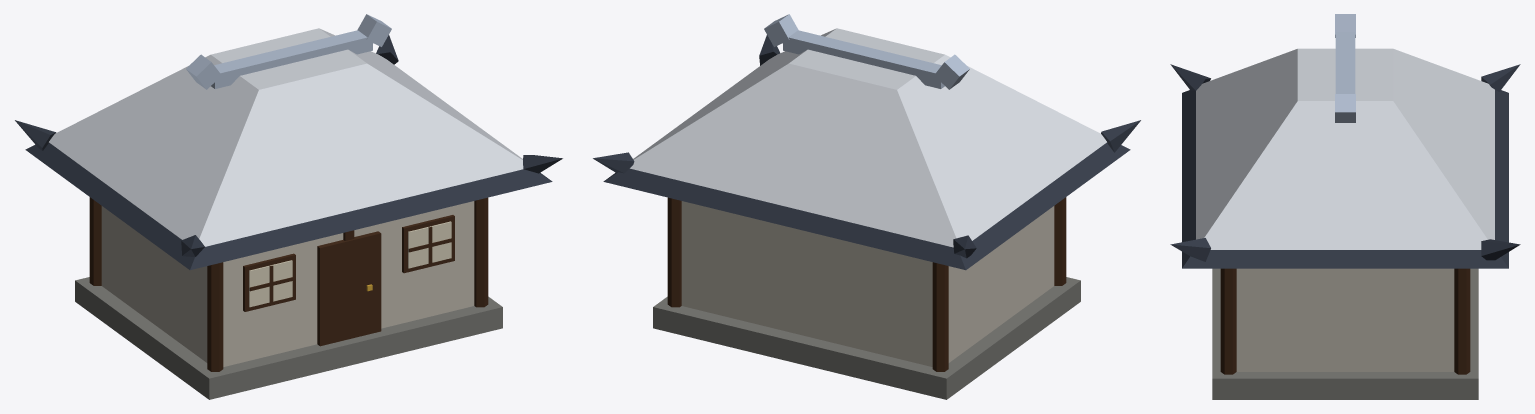
File: SM_GZ_house_frost_0.fbx
3 renders of one model, left to right at view 1: azimuth 30°, elevation 25°; view 2: azimuth 150°, elevation 25°; view 3: azimuth 270°, elevation 25°, orthographic.
Visible parts, largest first — view 1: SM_GZ_house_frost_0; view 2: SM_GZ_house_frost_0; view 3: SM_GZ_house_frost_0.
Boxes of the visible parts, box(x1,y1,x2,y2) form: SM_GZ_house_frost_0: box(15, 14, 562, 399); SM_GZ_house_frost_0: box(593, 14, 1140, 399); SM_GZ_house_frost_0: box(1170, 14, 1520, 399).
Bounding box in the file's own units: 914 × 649 × 750.
